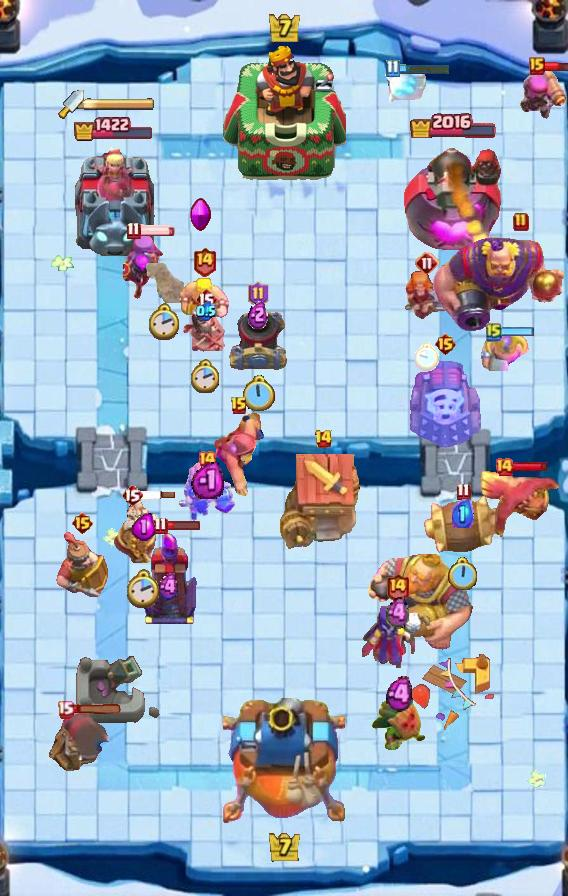archer: (176, 276, 232, 320)
axe: (362, 606, 432, 668)
bar: (70, 142, 158, 256)
bat: (382, 66, 426, 108)
earthquake: (55, 529, 109, 599)
electro-spirit: (191, 460, 225, 499), (386, 676, 413, 713), (386, 597, 409, 631), (156, 573, 182, 601), (132, 512, 156, 541), (452, 500, 474, 529), (248, 299, 268, 329), (196, 301, 216, 321)
elixir: (127, 569, 161, 610), (241, 374, 275, 413), (149, 302, 181, 342), (448, 557, 479, 593), (191, 359, 221, 395), (415, 341, 440, 370)
elixir-collector: (110, 494, 178, 568)
emote: (398, 63, 451, 75), (71, 705, 123, 716), (138, 224, 176, 236), (512, 460, 549, 471), (165, 521, 201, 532), (501, 327, 536, 338), (140, 490, 176, 500), (544, 60, 568, 73)
fireball: (209, 413, 269, 501)
fisherman: (146, 263, 184, 303)
giant-skeleton: (364, 550, 477, 654)
goblin-barrel: (370, 685, 428, 755)
goblin-giant: (481, 329, 531, 371)
golem: (405, 356, 485, 448)
hog-rider: (401, 270, 453, 324)
ice-spirit-evolution-symbol: (139, 530, 199, 626)
king-tower: (223, 43, 345, 181), (223, 698, 345, 826)
king-tower-bar: (84, 97, 156, 111)
lightning: (432, 235, 568, 333)
mother-witch: (477, 463, 563, 547)
musketeer: (227, 306, 289, 374)
rascal-girl: (123, 234, 165, 300)
royal-giant-evolution: (46, 706, 114, 776)
selected: (410, 110, 499, 138), (73, 116, 155, 142)
skeleton-dragon: (181, 302, 231, 356)
skeleton-king-skill: (190, 198, 212, 232)
sparky: (280, 453, 366, 551)
tesla-evolution: (177, 460, 237, 524)
text: (192, 247, 217, 278), (385, 573, 410, 603), (415, 251, 439, 275), (434, 332, 457, 356), (70, 511, 93, 535), (247, 281, 268, 307), (195, 287, 217, 311), (121, 483, 143, 507), (197, 450, 217, 470), (494, 457, 514, 477), (315, 429, 334, 449), (230, 396, 248, 416), (57, 701, 75, 720), (513, 212, 529, 232), (486, 322, 502, 342), (529, 57, 545, 75), (126, 220, 141, 239), (456, 483, 471, 501), (153, 517, 167, 536), (385, 59, 399, 77)
the-log: (421, 493, 505, 555)
tombstone: (520, 68, 568, 120)
tower-bar: (404, 138, 505, 256)
